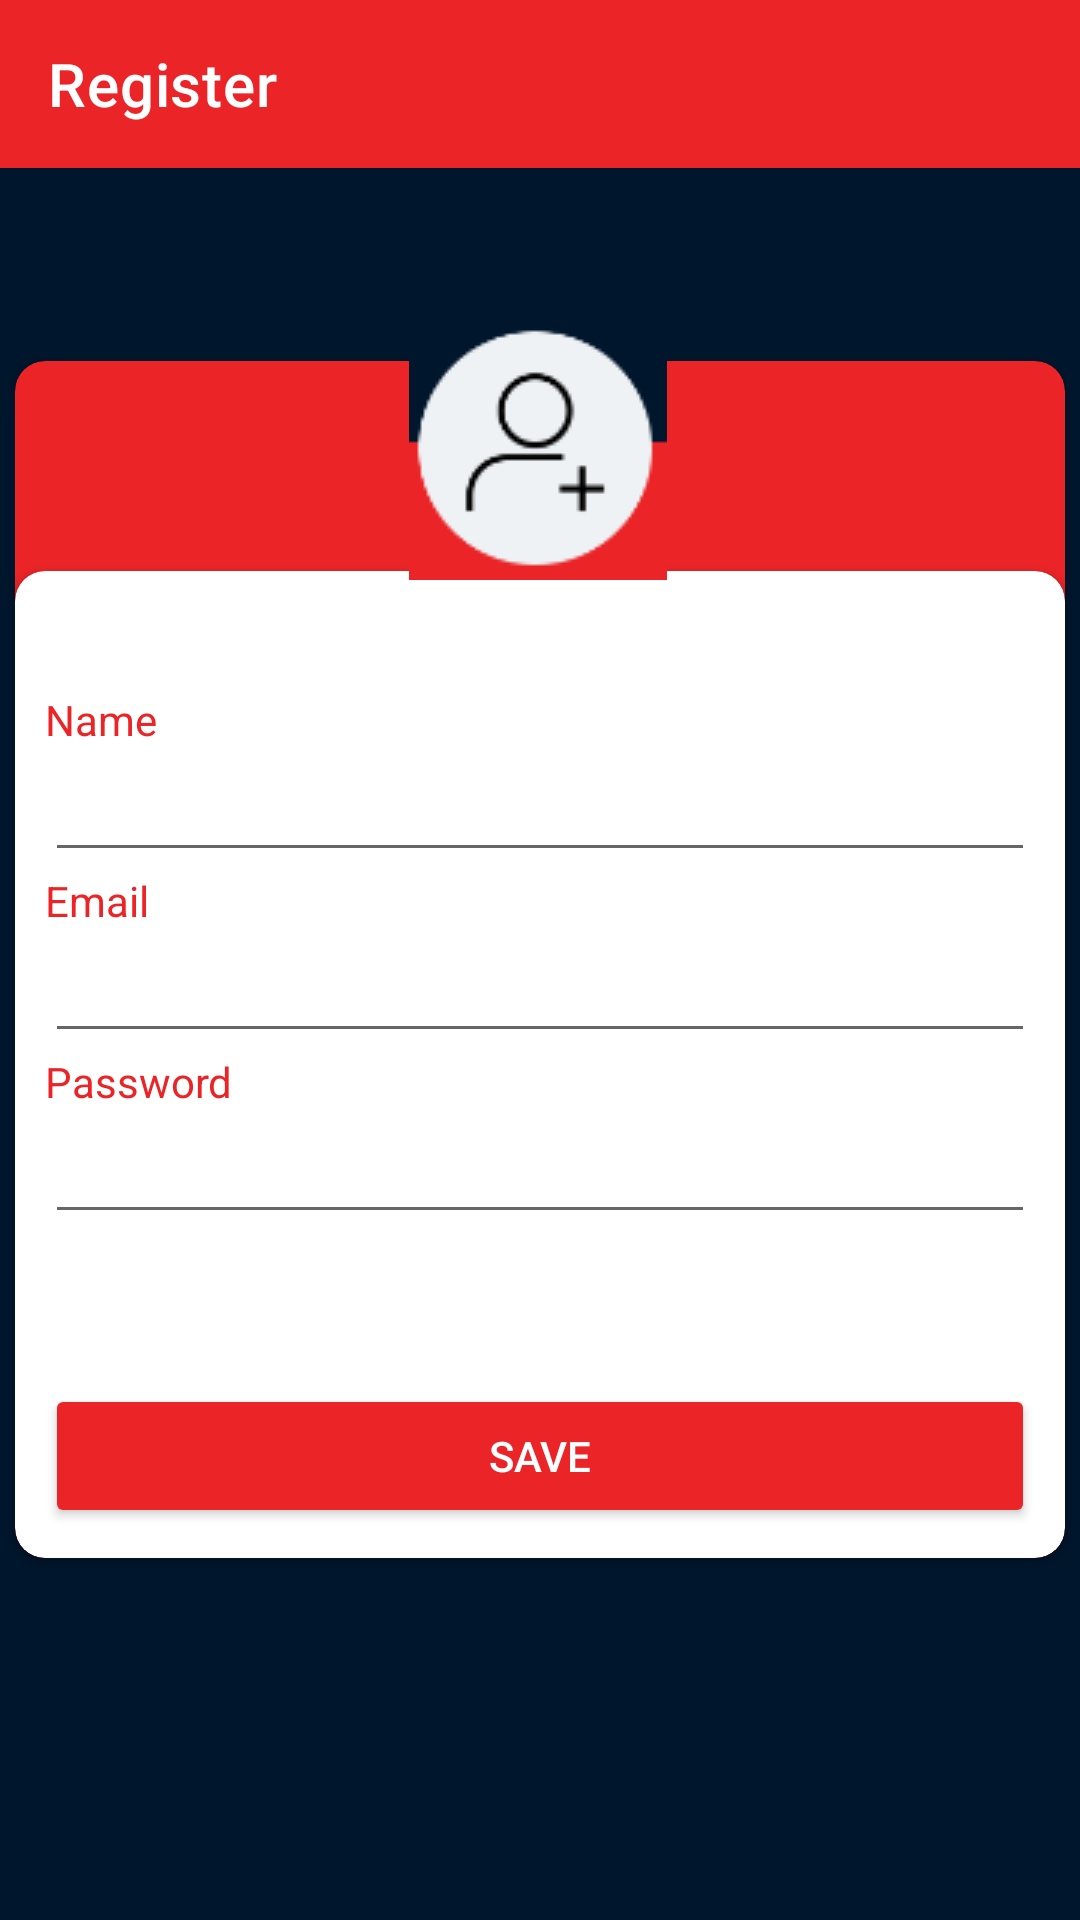

Named icons in this screenshot (1080*1920) and their centers, [x,y]:
add: [538,449]
